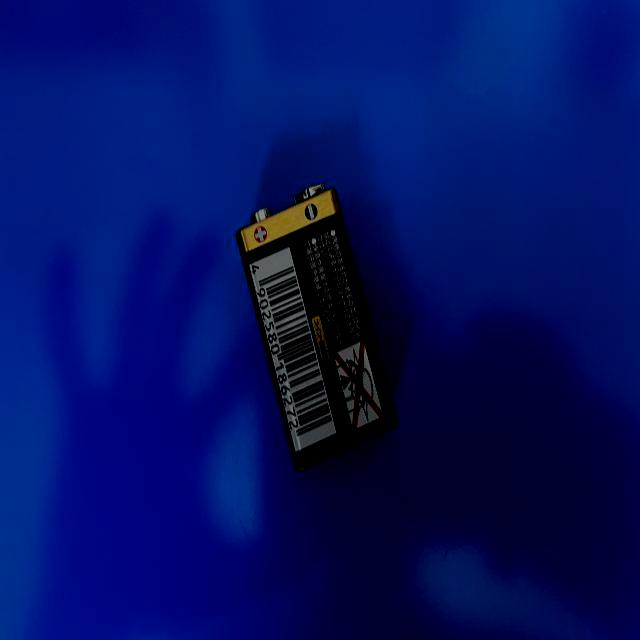9V: (235, 180, 398, 474)
